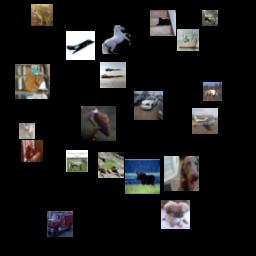airplane: (66, 31, 95, 60), (192, 108, 218, 134), (100, 62, 126, 88)
automobile: (134, 91, 163, 120)
bird: (81, 106, 116, 141)
cat: (15, 64, 50, 99), (150, 10, 176, 36), (21, 140, 43, 162)
deer: (125, 159, 160, 194), (203, 82, 222, 101), (19, 123, 35, 139)
dog: (164, 156, 199, 191), (161, 200, 190, 229)
frog: (98, 152, 124, 178), (31, 4, 53, 26), (202, 10, 218, 26)
ship: (177, 29, 199, 51)
truck: (47, 211, 73, 237)
